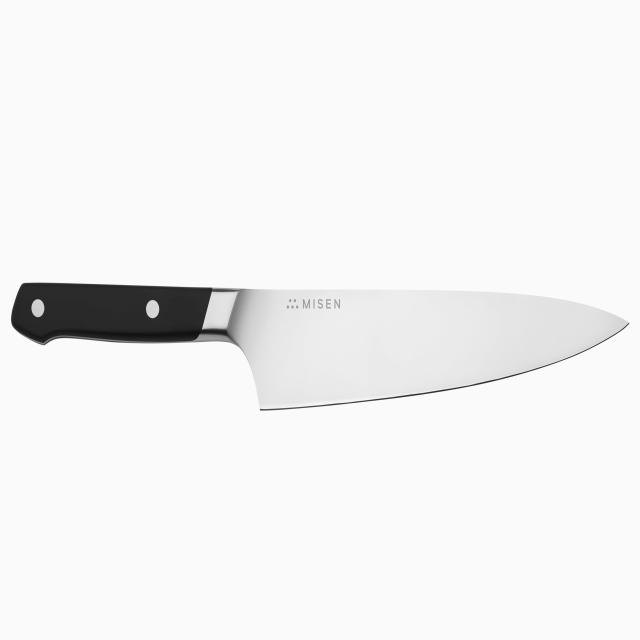Knife: (8, 271, 634, 429)
